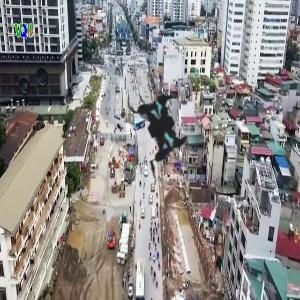drone: (78, 51, 237, 210)
